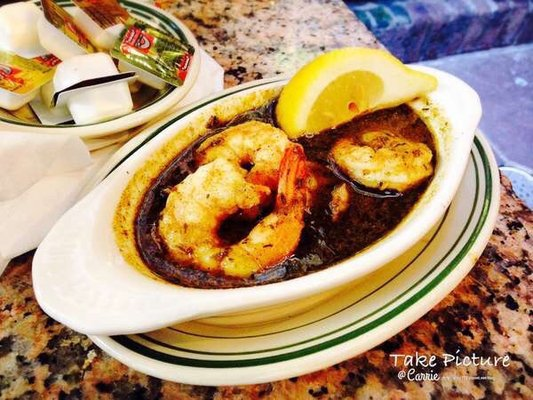sushi: (16, 29, 489, 347), (0, 0, 204, 140)
